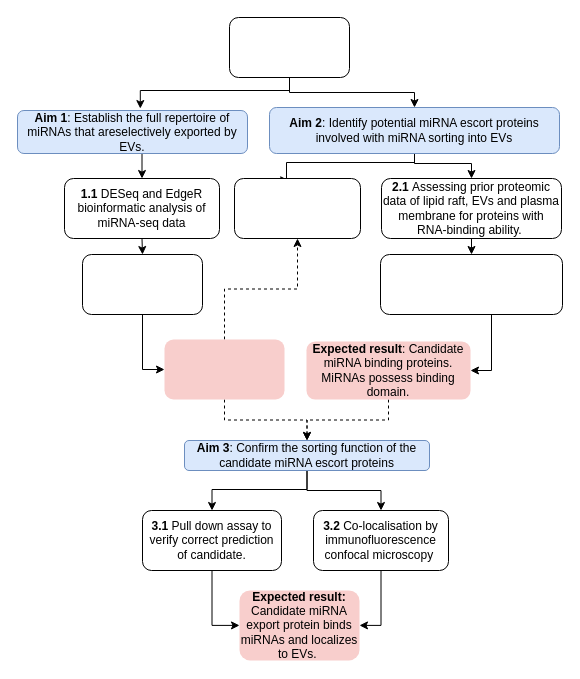
Some shapes in this 580 by 679 pixel diagram are drawn without their labels. Each missing label, with the centre of its shape:
1.2 RT-qPCR verification of cell and EV miRNA levels: [142,284]
2.2 Compare known binding motif of candidate proteins to exported miRNAs: [471,284]
2.2 Motif discovery on exported miRNAs to find common binding motif: [297,208]
Expected result : List of differentially exported miRNAs: [224,369]
Identifying miRNA escort proteins.: [289,47]
